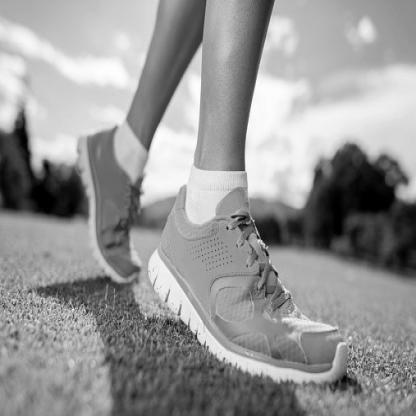ankle: (113, 152, 115, 156), (197, 227, 199, 230)
heel: (161, 242, 164, 246), (93, 138, 95, 141)
left_foot: (80, 126, 146, 284)
pinky: (287, 347, 290, 351), (136, 257, 137, 259)
right_foot: (149, 186, 348, 384)
toe: (330, 328, 332, 331), (122, 269, 123, 271)
